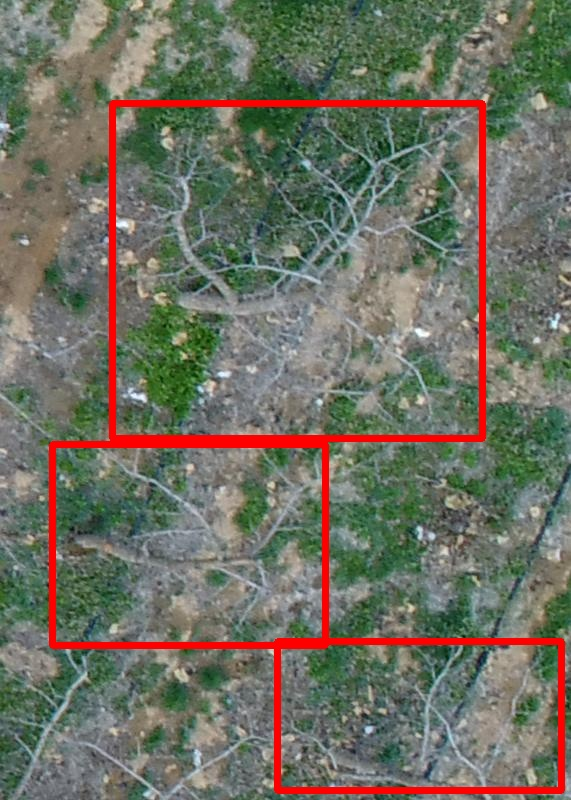apple: (112, 103, 482, 438), (52, 444, 325, 645), (277, 641, 561, 790)
